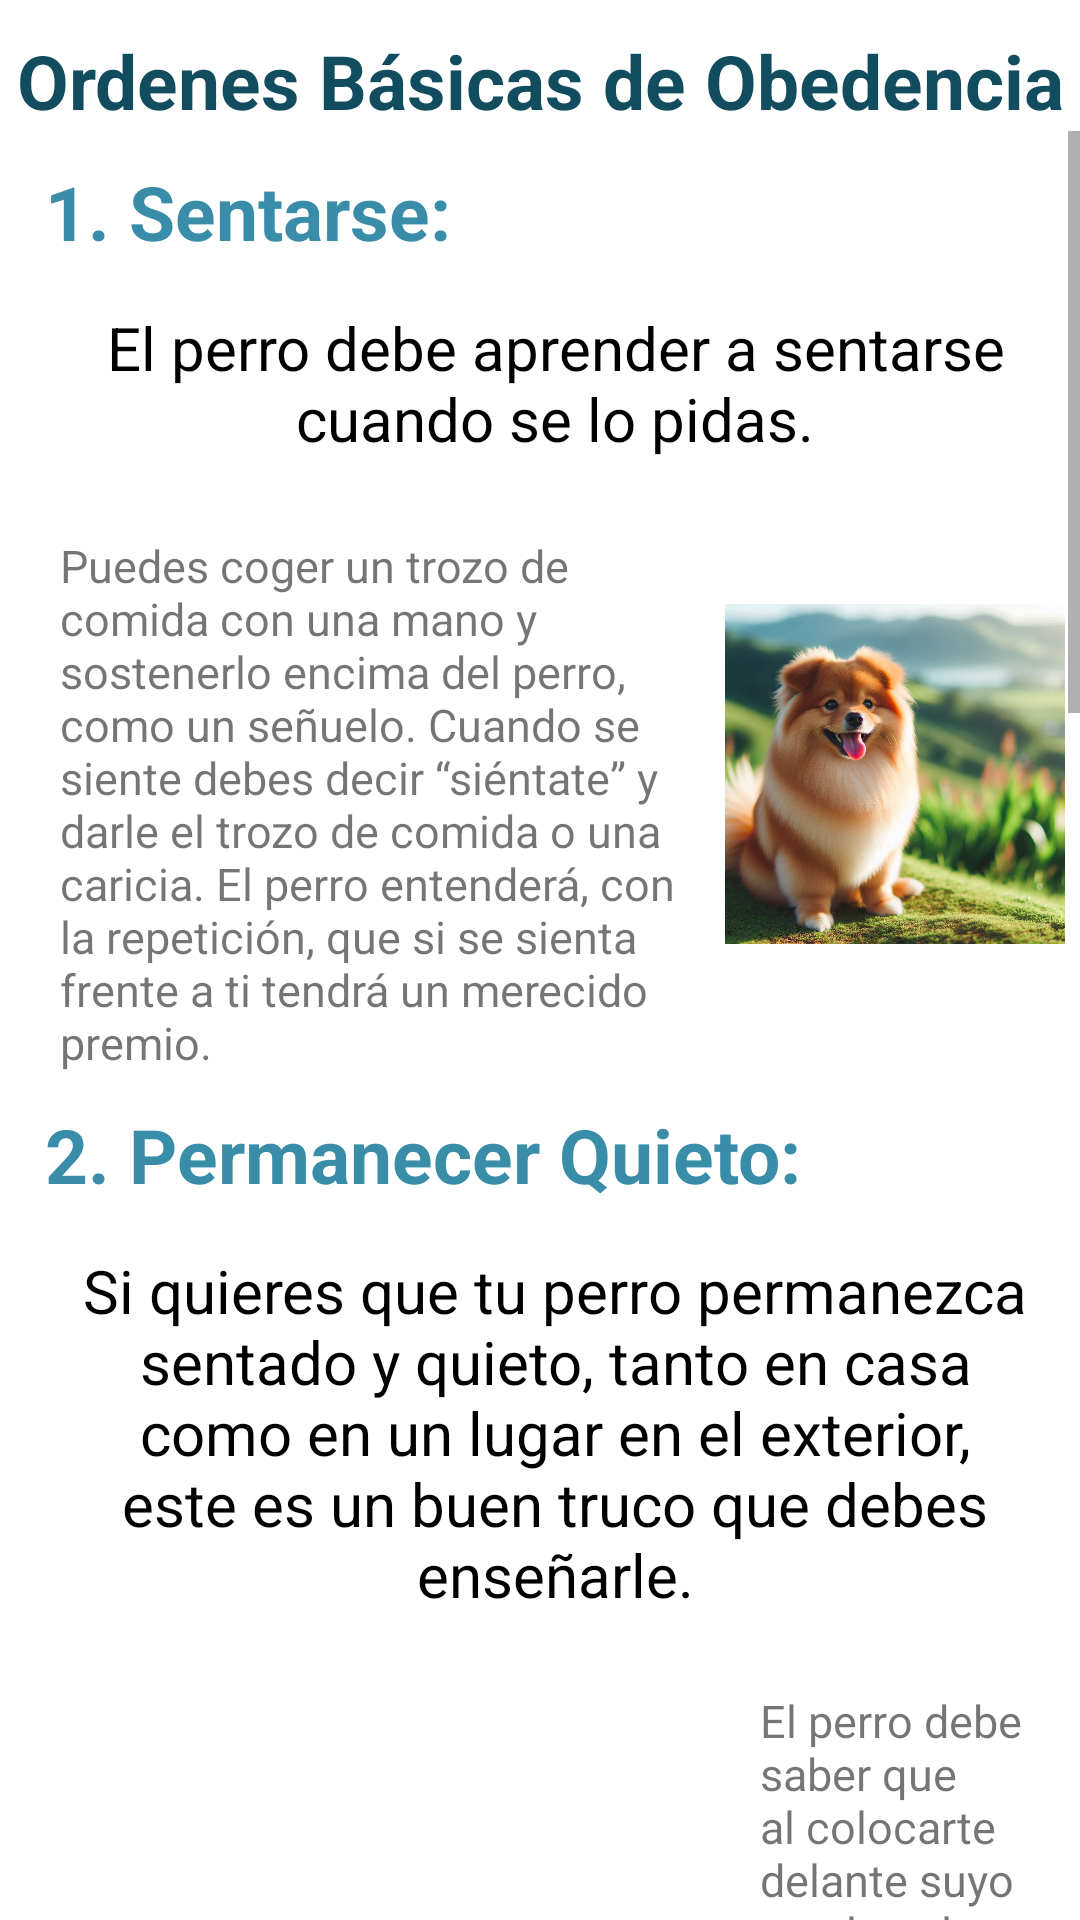

Icon bounding boxes for this 1080px x 1920px phone screenshot, format box=[x1, y1, x2, y2]:
sentado: box=[725, 604, 1065, 944]
